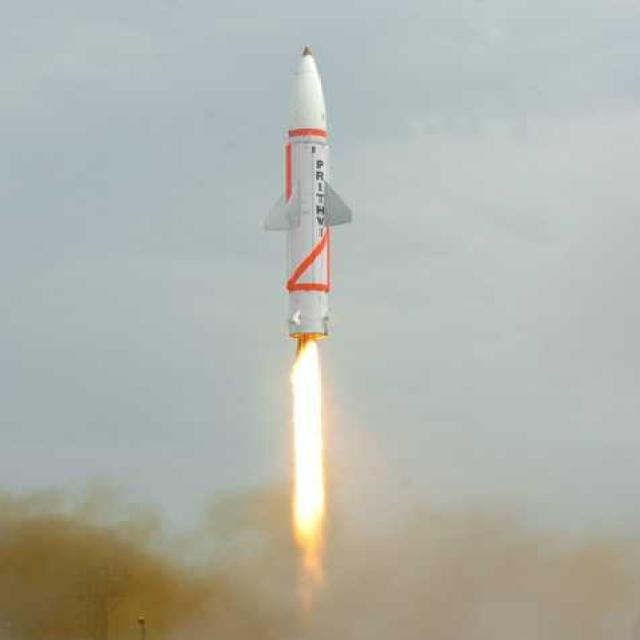missile: (260, 34, 354, 350)
